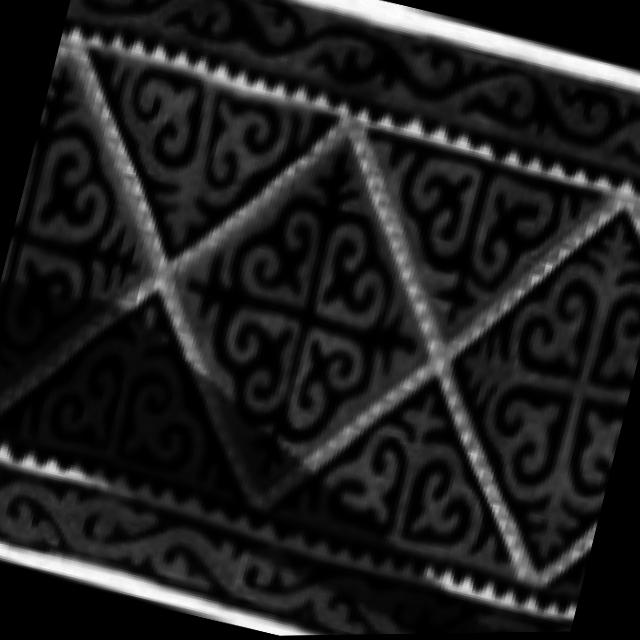Unity: (174, 141, 434, 485), (451, 225, 640, 571), (87, 52, 336, 251), (0, 55, 150, 379), (271, 384, 518, 580), (0, 300, 240, 488), (373, 134, 604, 324)
